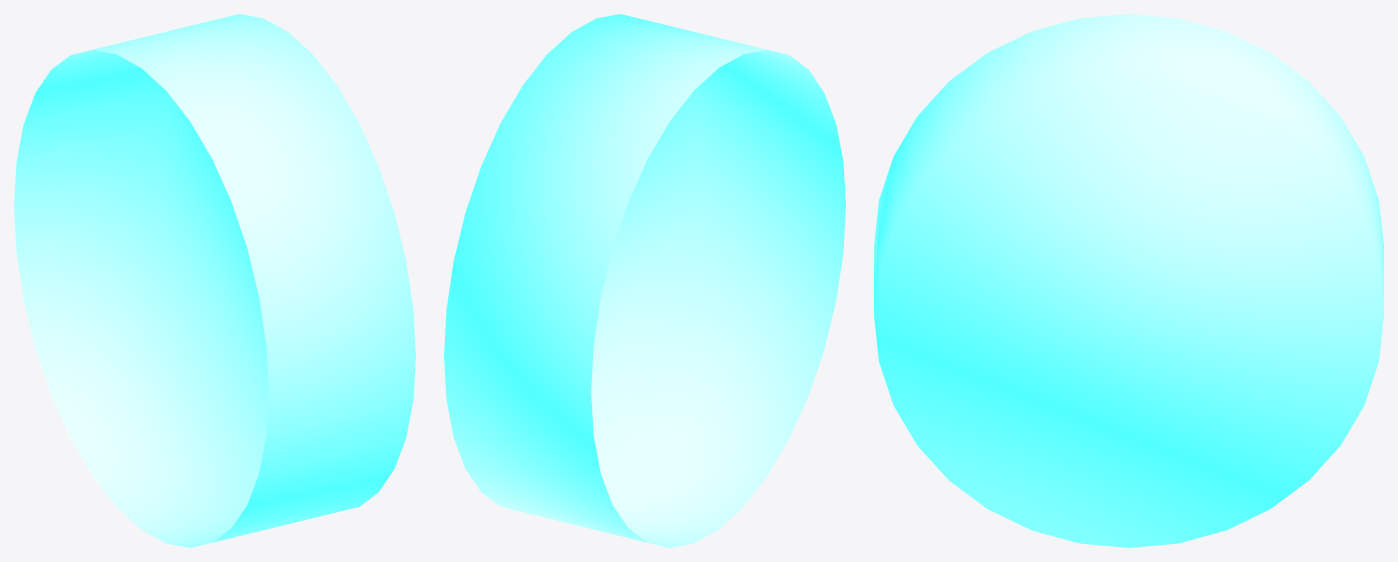
The model's file is button.fbx.
3 views of the same model, side by side, from view 1: azimuth 30°, elevation 25°; view 2: azimuth 150°, elevation 25°; view 3: azimuth 270°, elevation 25° (orthographic).
Parts seen in each view (by area): view 1: button_001; view 2: button_001; view 3: button_001.
Part boxes in pixels (x1,y1,x2,y2): button_001: [14, 14, 415, 547]; button_001: [444, 14, 845, 547]; button_001: [874, 14, 1383, 547].
Size of the model in its own units: 30.06 by 90 by 90.
